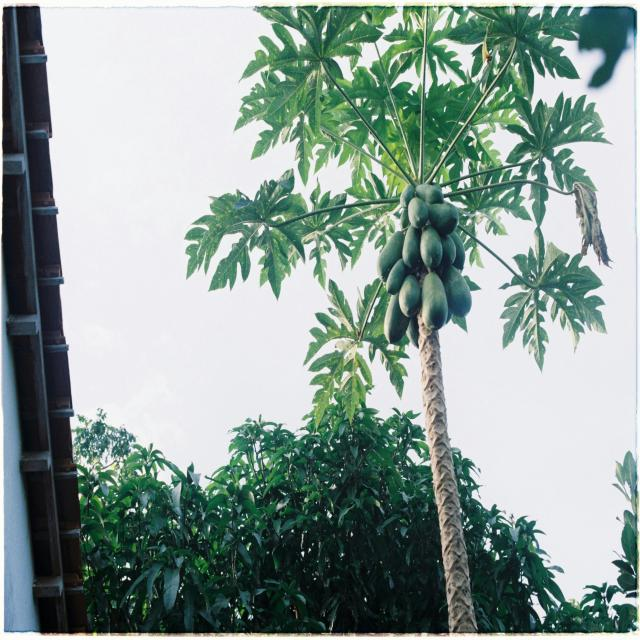Papaya-Tree: (189, 1, 616, 628)
